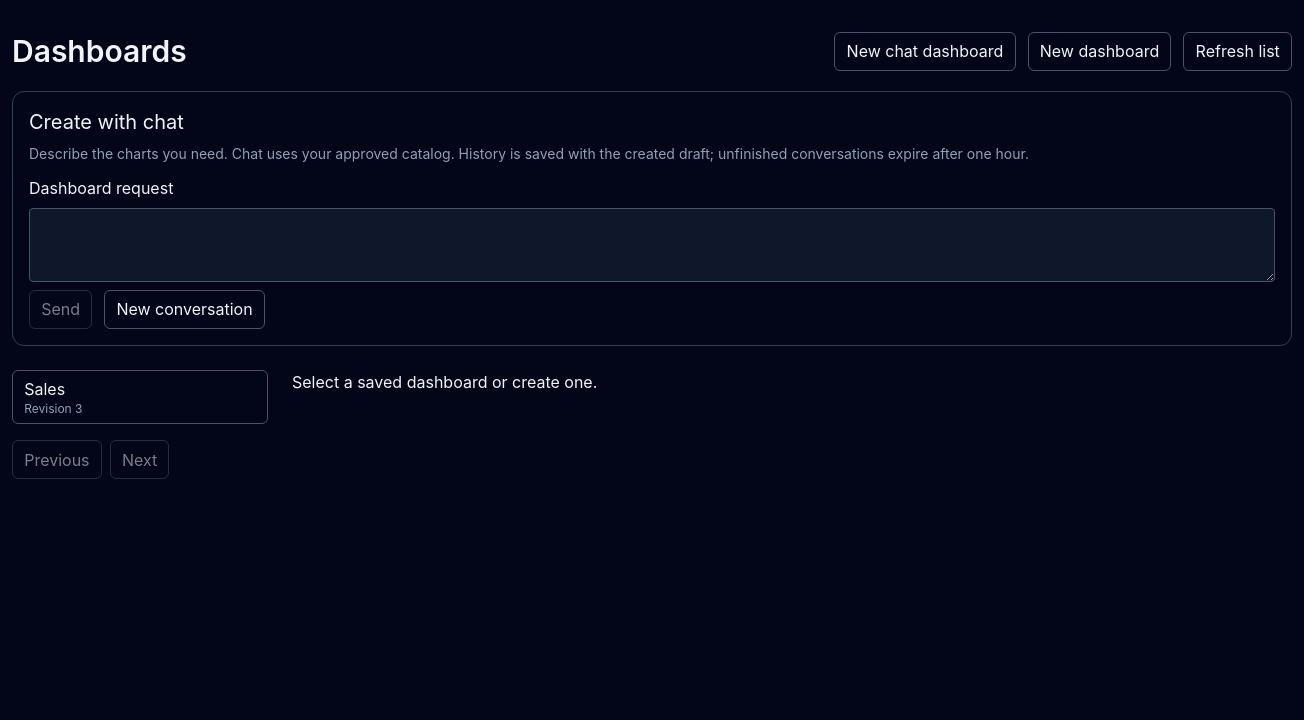
Test: keeps a pending chat request on reload and uses current revisions for publish and discard
Click the button "Sales Revision 3" at (140, 397), box [12,370,268,424]
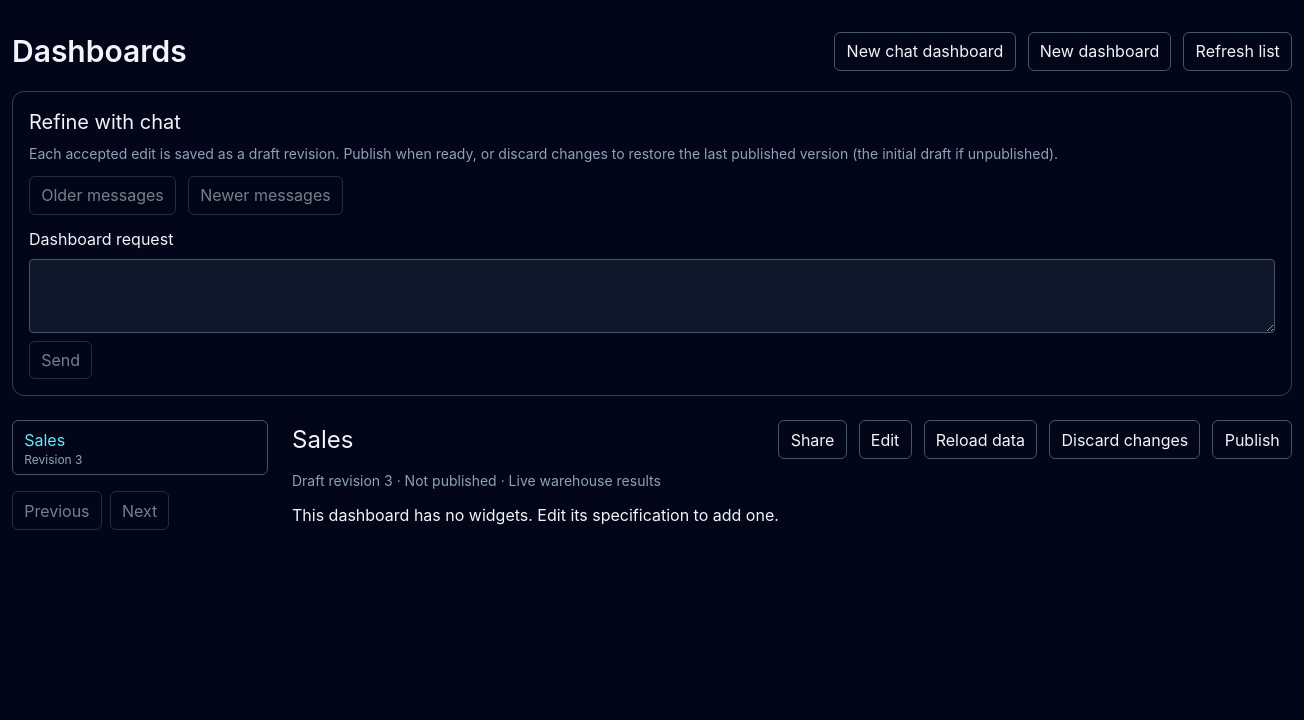
Expected: the heading "Refine with chat" is shown, [29,110,181,134]
Type "Keep this request" into the text box labelled "Dashboard request" at (652, 296), box [29,259,1275,333]
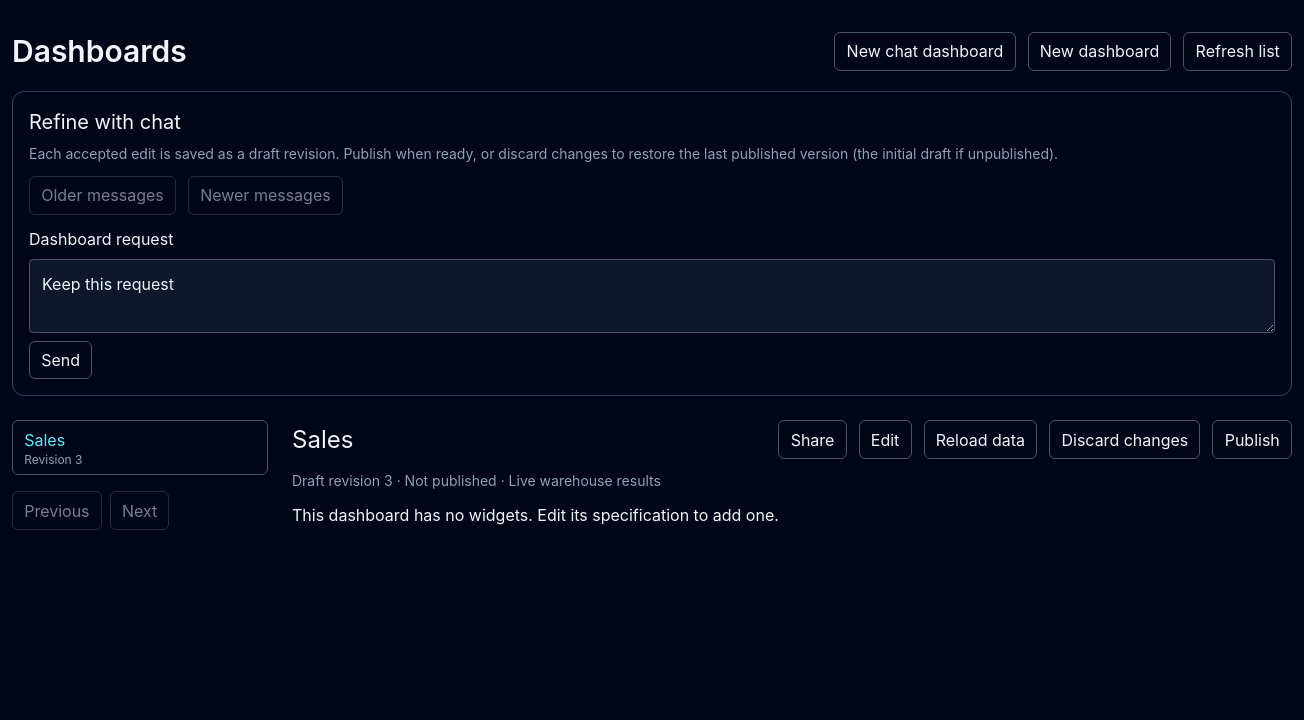
Expected: the button "Reload data" is enabled
Click the button "Reload data" at (980, 440), box [924,420,1037,459]
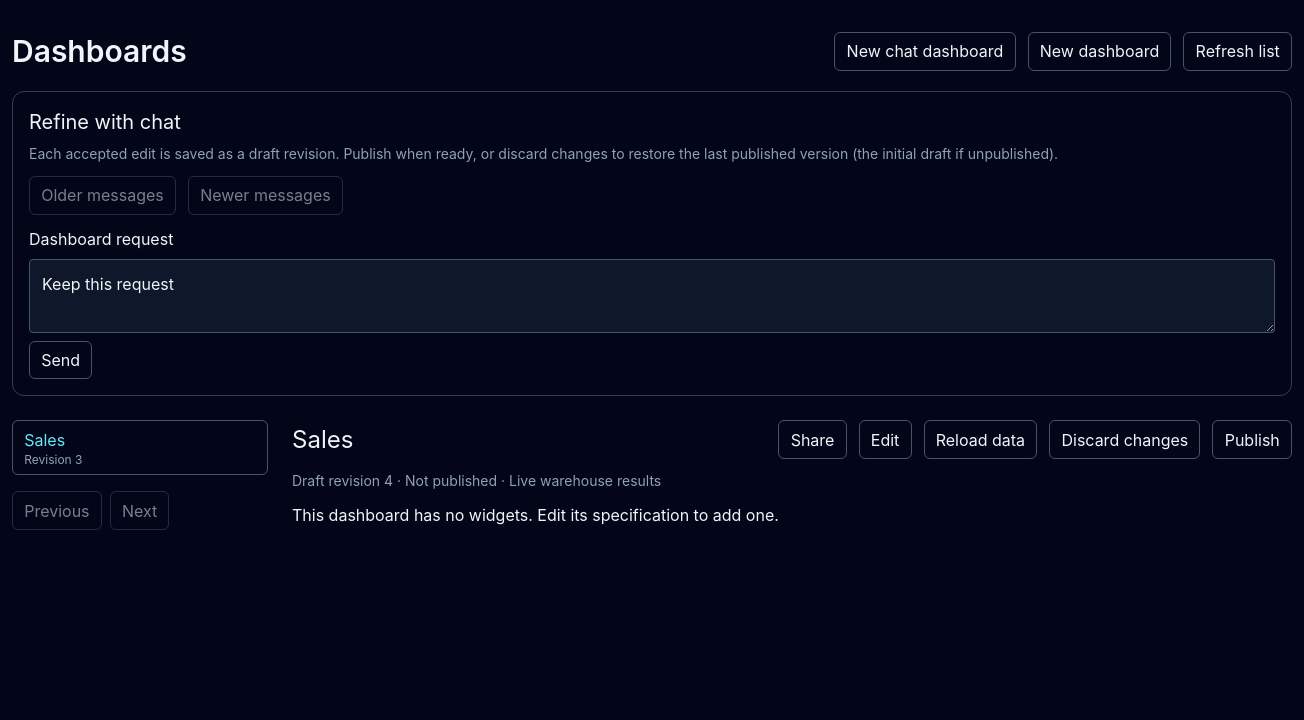
Expected: the text "Draft revision 4 · Not published · Live warehouse results" is shown, [292,472,661,489]
Click the button "Discard changes" at (1125, 440), box [1049,420,1200,459]
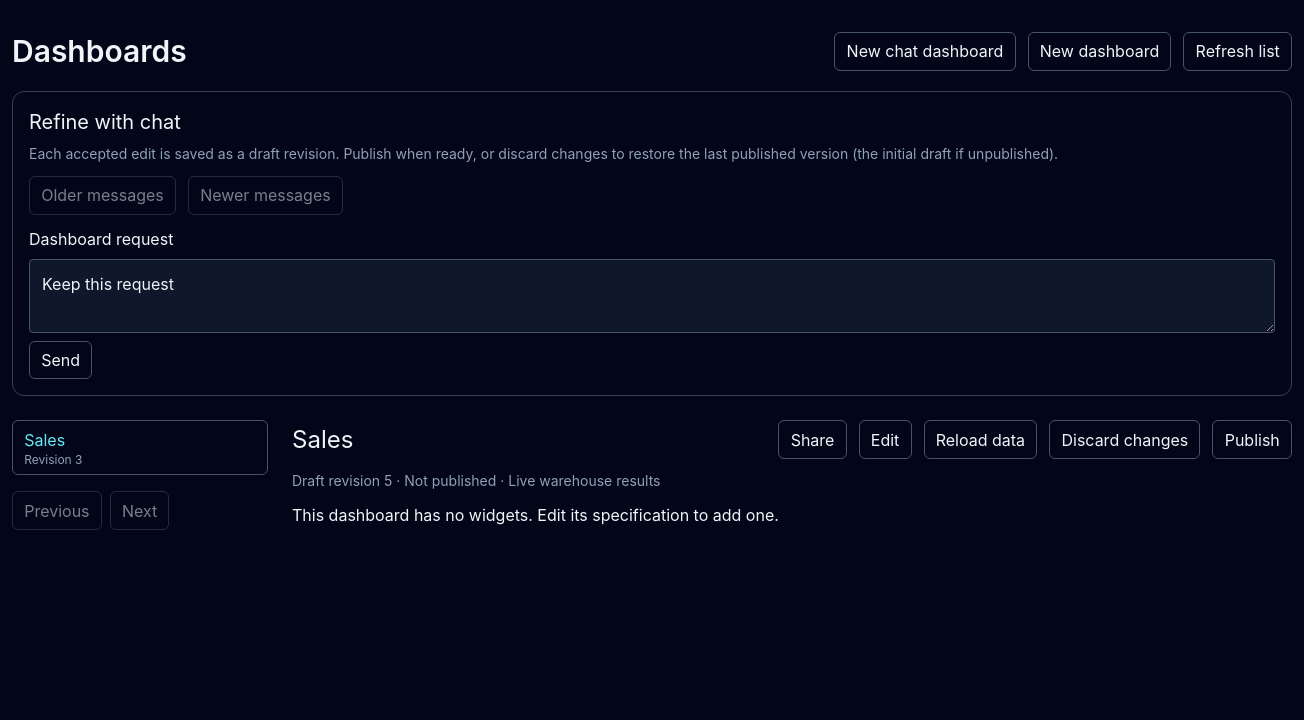
Expected: the text "Draft revision 5 · Not published · Live warehouse results" is shown, [292,472,660,489]
Click the button "Publish" at (1252, 440), box [1212,420,1292,459]
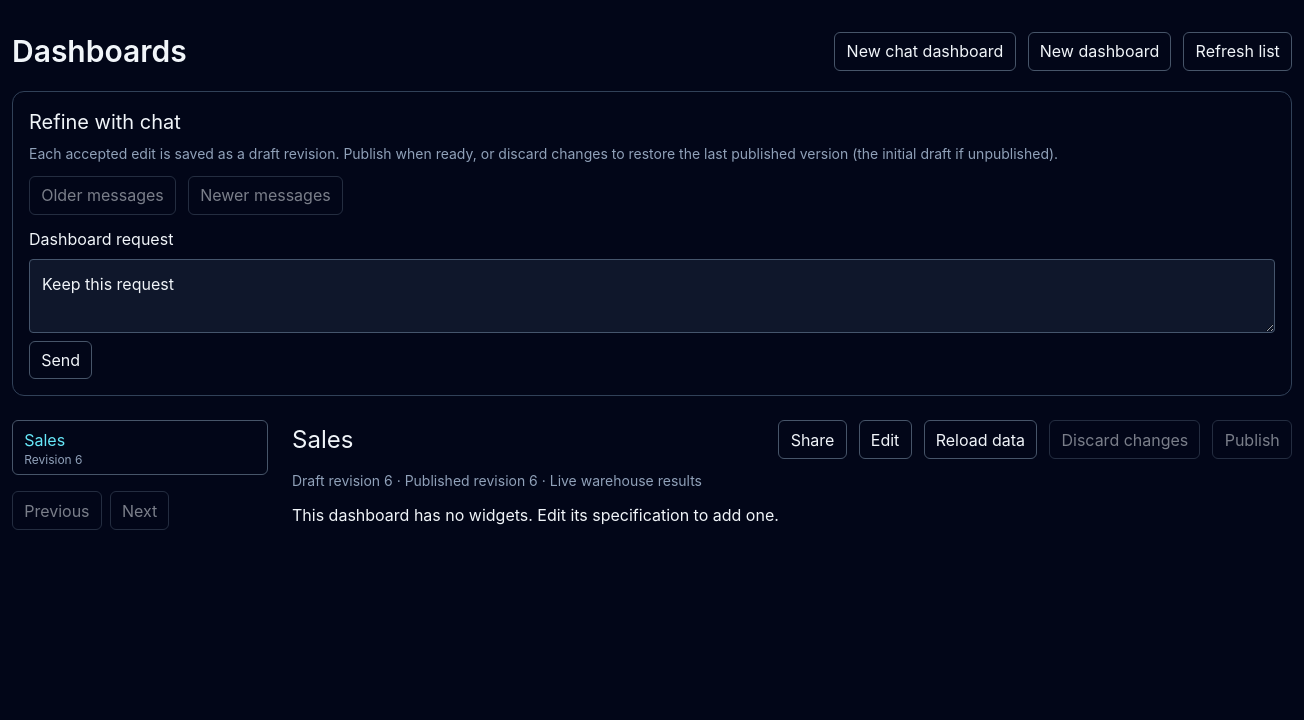
Expected: the text "Published revision 6" is shown, [405,472,538,489]
